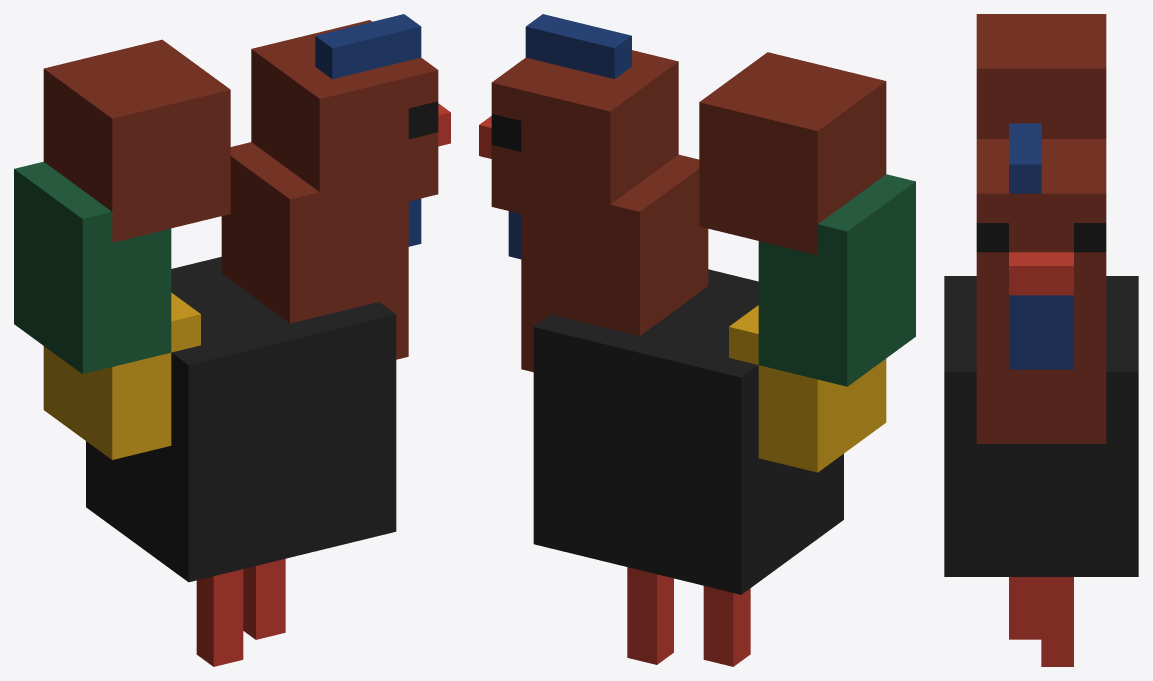
The model's file is gallo.obj.
The picture shows the model from 3 angles, left to right: view 1: azimuth 30°, elevation 25°; view 2: azimuth 150°, elevation 25°; view 3: azimuth 270°, elevation 25°; orthographic projection. The views are drawn at different scales.
Bounding box in the file's own units: 1.3 × 1.9 × 0.6.
